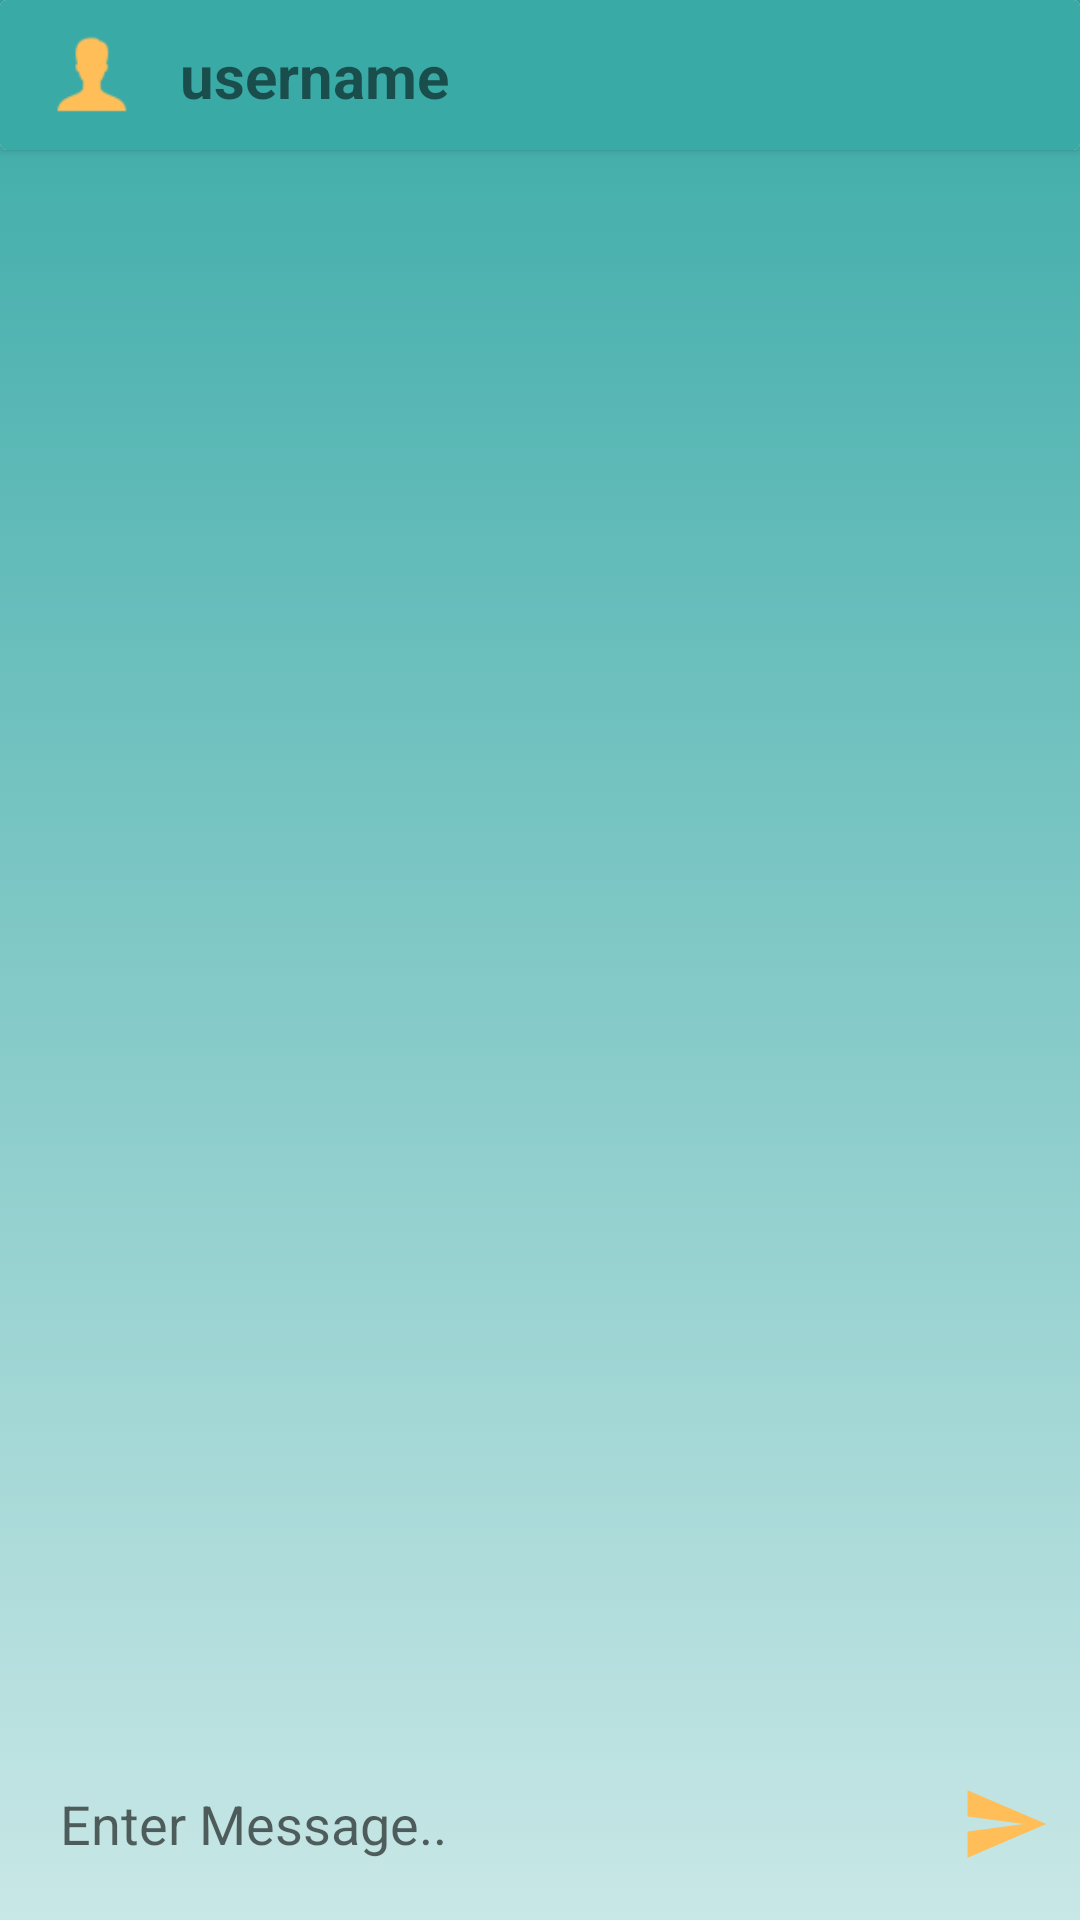

Named icons in this screenshot (1080×1920) and their centers, point (x, y):
send message: point (1006, 1824)
